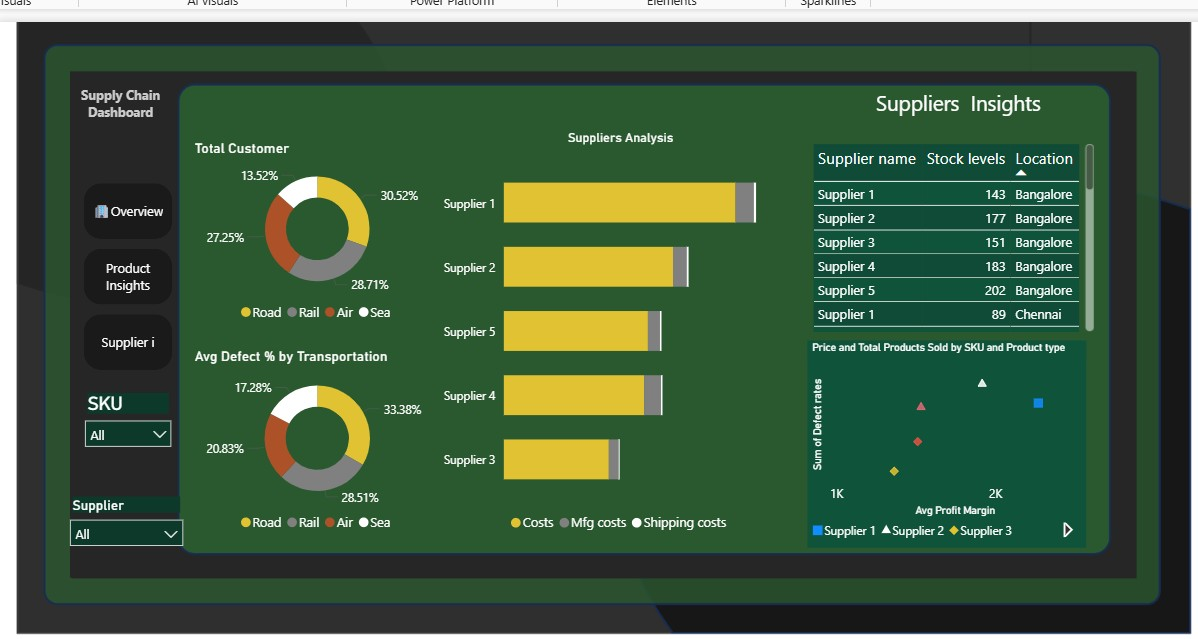

The dashboard page shown, as its layout file describes it:
{"tool":"powerbi","page":{"name":"Supplier i","canvas":[1280,720],"ordinal":2},"visuals":[{"type":"donutChart","title":"Total  Customer ","fields":{"Category":["supply_chain_data.Transportation modes"],"Y":["Measeures.Total Cost"]},"box":[202.7,121.6,264.9,198.6],"z":0},{"type":"pageNavigator","box":[92.2,168.1,92.2,196.3],"z":0,"group":"g1"},{"type":"donutChart","title":"Avg Defect % by Transportation","fields":{"Category":["supply_chain_data.Transportation modes"],"Y":["Measeures.Avg Defect rate %"]},"box":[202.7,339.2,264.9,200],"z":1000},{"type":"slicer","fields":{"Values":["supply_chain_data.SKU"]},"box":[83.1,381.1,110.4,71],"z":1000,"group":"g1"},{"type":"barChart","title":"Suppliers Analysis","fields":{"Category":["supply_chain_data.Supplier name"],"Y":["Sum(supply_chain_data.Costs)","Sum(supply_chain_data.Mfg costs)","Sum(supply_chain_data.Shipping costs)"]},"box":[455.8,113,388.3,426],"z":2000},{"type":"slicer","fields":{"Values":["supply_chain_data.Supplier name"]},"box":[67.5,488.3,137.7,76.6],"z":2000,"group":"g1"},{"type":"textbox","box":[67.5,62.3,126,52.9],"z":3000,"group":"g1"},{"type":"tableEx","fields":{"Values":["supply_chain_data.Supplier name","Sum(supply_chain_data.Stock levels)","supply_chain_data.Location"]},"box":[844.2,122.1,302.6,203.9],"z":3000},{"type":"scatterChart","title":" Price and Total Products Sold by SKU and Product type","fields":{"X":["Measeures.Avg Profit Margin"],"Y":["Sum(supply_chain_data.Defect rates)"],"Series":["supply_chain_data.Supplier name"]},"box":[844.2,331.2,289.6,215.6],"z":4000},{"type":"textbox","box":[910.4,64.9,223.4,50.6],"z":5000},{"type":"group","id":"g1","title":"Group 1","box":[67.5,62.3,137.7,502.6],"z":6000}]}

Visuals, with their boxes on the page's 1280x720 design canvas (x1, y1, x2, y2). These are canvas units, not pixel positions in the 1198x639 screenshot, which may show the page scaled, cropped or inside an application window:
"Total  Customer " donutChart: [203,122,468,320]
pageNavigator: [92,168,184,364]
"Avg Defect % by Transportation" donutChart: [203,339,468,539]
slicer - supply_chain_data.SKU: [83,381,194,452]
"Suppliers Analysis" barChart: [456,113,844,539]
slicer - supply_chain_data.Supplier name: [68,488,205,565]
textbox: [68,62,194,115]
tableEx - supply_chain_data.Supplier name x Sum(supply_chain_data.Stock levels): [844,122,1147,326]
" Price and Total Products Sold by SKU and Product type" scatterChart: [844,331,1134,547]
textbox: [910,65,1134,116]
"Group 1" group: [68,62,205,565]
